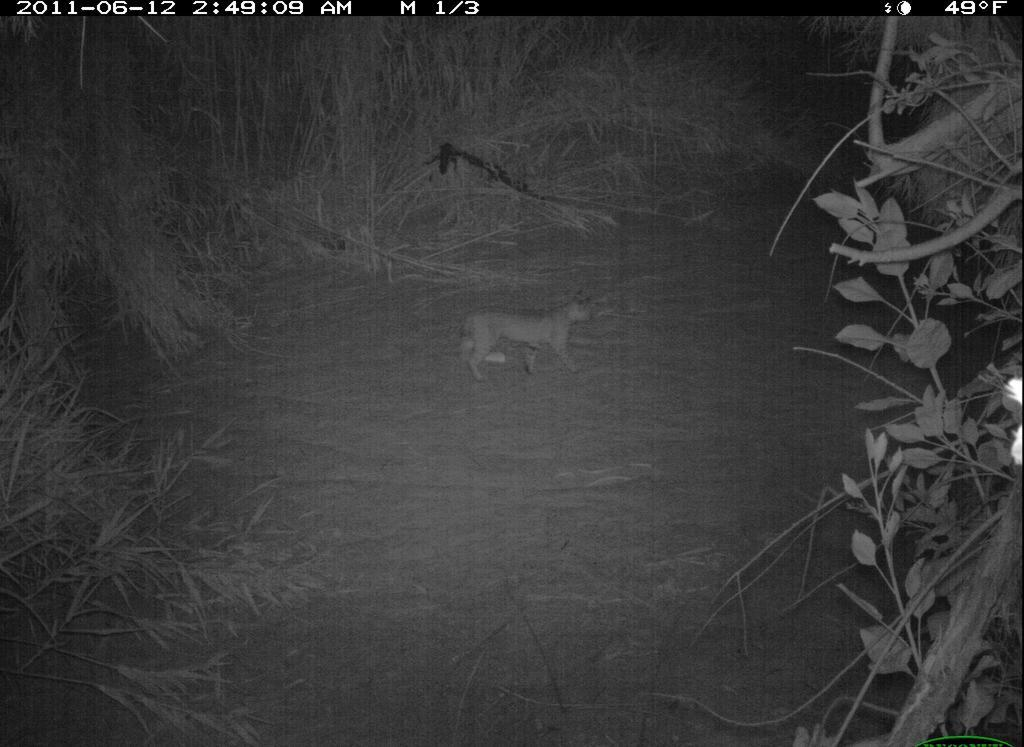bobcat: (454, 285, 609, 385)
